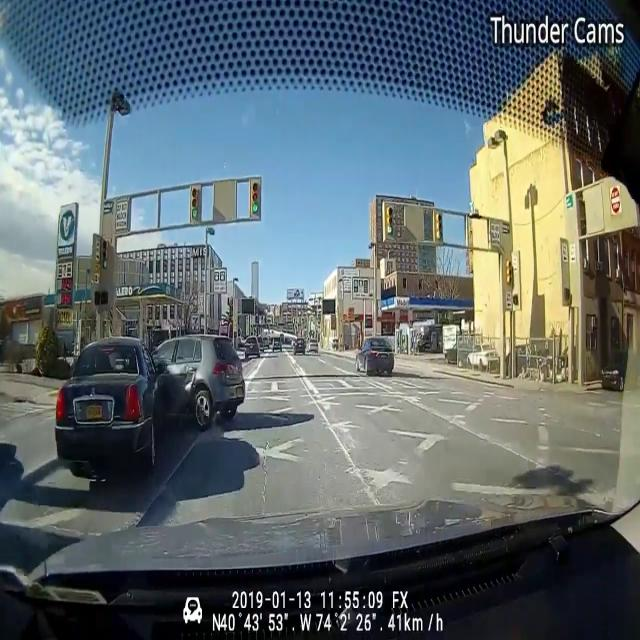accident: (50, 328, 265, 482)
